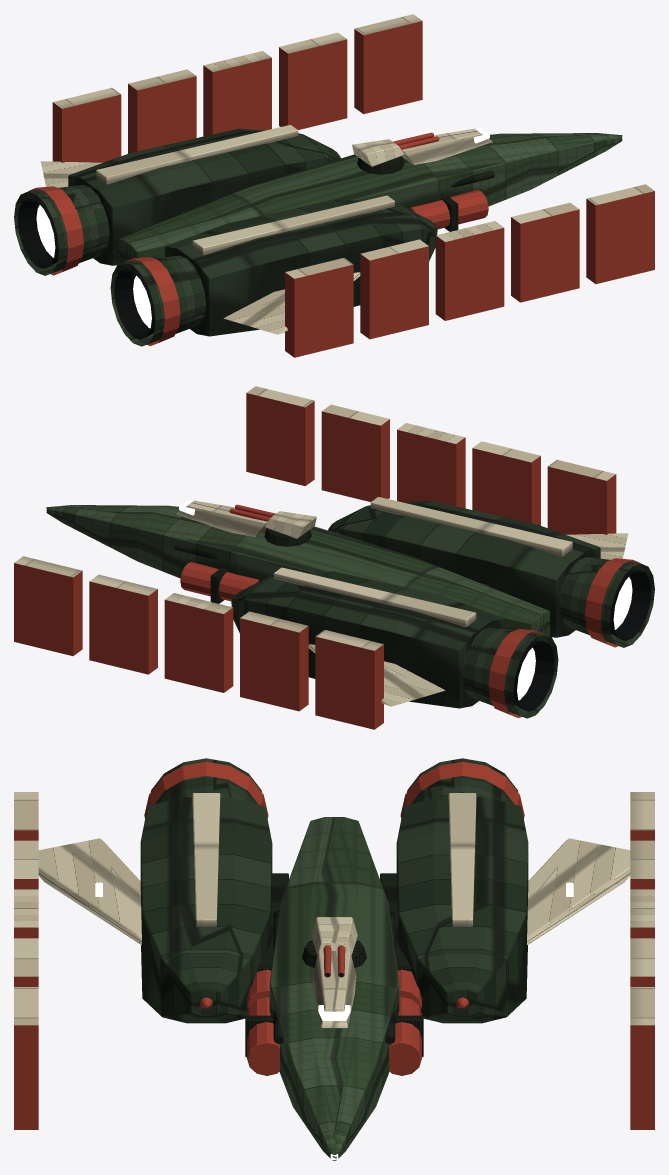
The model's file is corvette.glb.
3 views of the same model, one above another, from view 1: azimuth 30°, elevation 25°; view 2: azimuth 150°, elevation 25°; view 3: azimuth 270°, elevation 25° (orthographic). The views are drawn at different scales.
Visible parts, largest first — view 1: corvette; view 2: corvette; view 3: corvette.
Part boxes in pixels (x1,y1,x2,y2): corvette: (14,14,654,357); corvette: (14,386,654,729); corvette: (14,758,654,1160).
Bounding box in the file's own units: 20 × 3.46 × 15.55.
Materials: 1 (1 with a texture image).
